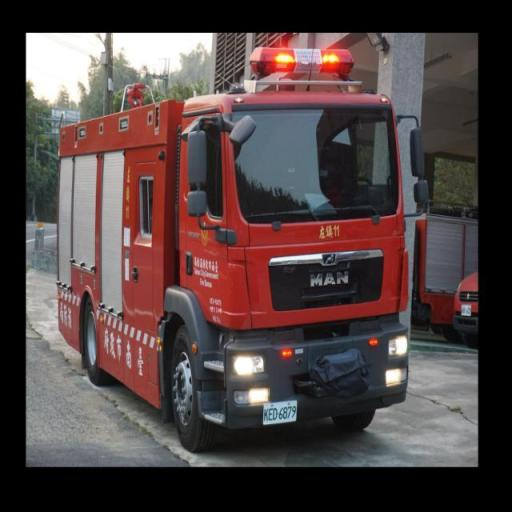fire truck: (60, 52, 414, 474)
